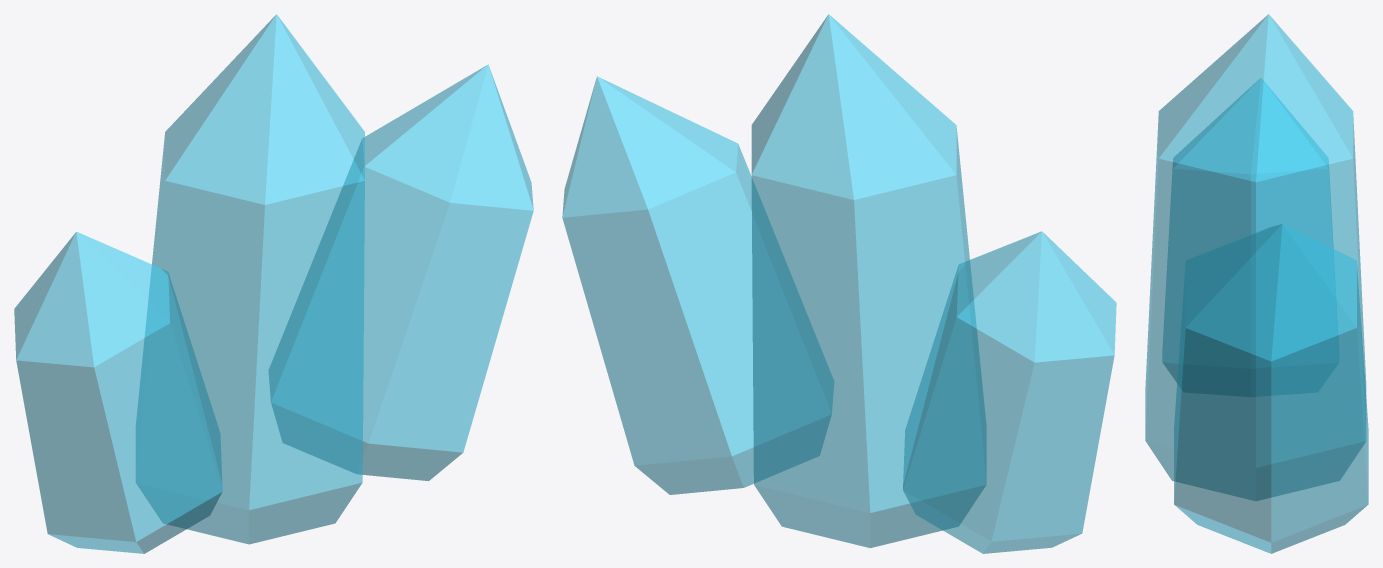
Rendered from blue-crystal-cluster.glb.
The picture shows the model from 3 angles, left to right: view 1: azimuth 30°, elevation 25°; view 2: azimuth 150°, elevation 25°; view 3: azimuth 270°, elevation 25°; orthographic projection. The views are drawn at different scales.
Parts seen in each view (by area): view 1: Blue Crystal Centre, Blue Crystal Right, Blue Crystal Left; view 2: Blue Crystal Centre, Blue Crystal Right, Blue Crystal Left; view 3: Blue Crystal Centre, Blue Crystal Right, Blue Crystal Left.
Boxes of the visible parts, x1,y1,x2,y2 form: Blue Crystal Centre: [136, 14, 364, 544]; Blue Crystal Right: [269, 64, 533, 480]; Blue Crystal Left: [14, 232, 222, 553]; Blue Crystal Centre: [751, 14, 986, 547]; Blue Crystal Right: [562, 76, 833, 494]; Blue Crystal Left: [903, 231, 1116, 553]; Blue Crystal Centre: [1145, 14, 1366, 500]; Blue Crystal Right: [1174, 224, 1368, 553]; Blue Crystal Left: [1162, 78, 1333, 381].
Bounding box in the file's own units: 1.16 × 1.01 × 0.437.
